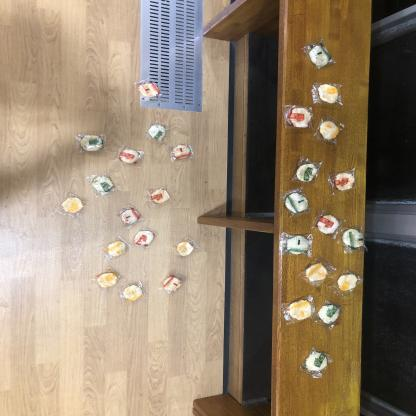green_setoshio: (297, 346, 334, 379), (304, 40, 336, 73), (277, 232, 316, 258), (282, 188, 312, 219), (87, 171, 121, 198), (339, 226, 369, 256), (76, 130, 110, 155), (320, 300, 347, 327), (295, 158, 321, 186), (143, 121, 173, 144)
red_setoshio: (281, 103, 313, 132), (312, 211, 345, 238), (329, 168, 359, 194), (117, 202, 145, 228), (130, 78, 162, 100), (158, 272, 186, 296), (170, 143, 200, 165), (146, 185, 175, 207), (116, 146, 144, 168), (134, 227, 159, 250)
yellow_setoshio: (278, 293, 316, 324), (310, 80, 347, 107), (311, 118, 348, 145), (300, 258, 331, 287), (58, 192, 89, 220), (332, 268, 362, 295), (172, 234, 201, 259), (102, 237, 131, 261), (121, 282, 147, 305), (95, 269, 121, 291)
